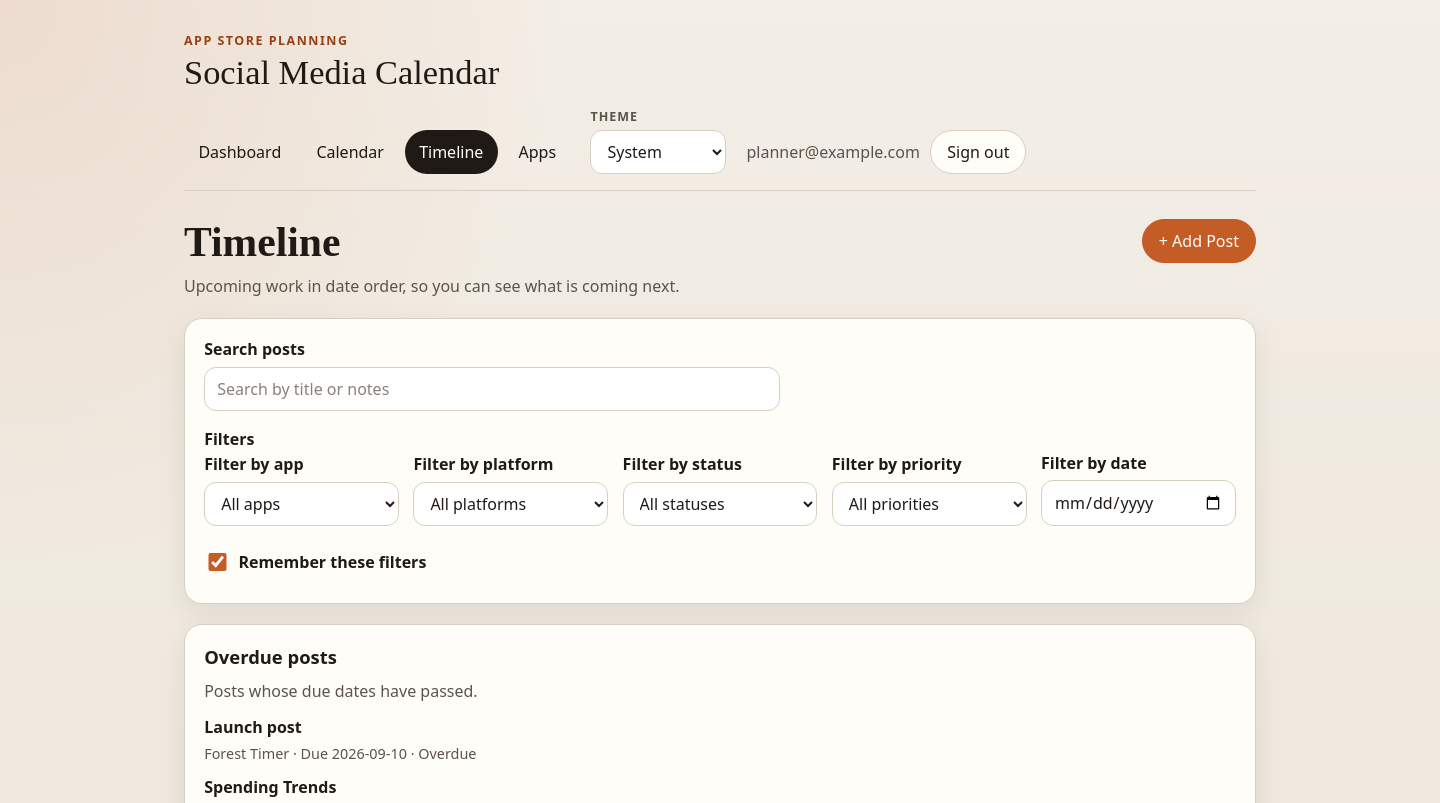
Test: B-012 filter and search posts › searches timeline posts by title or notes
This screenshot has width=1440, height=803.
Type "beach" into the search field labelled "Search posts" at (492, 389), box [204,367,780,411]
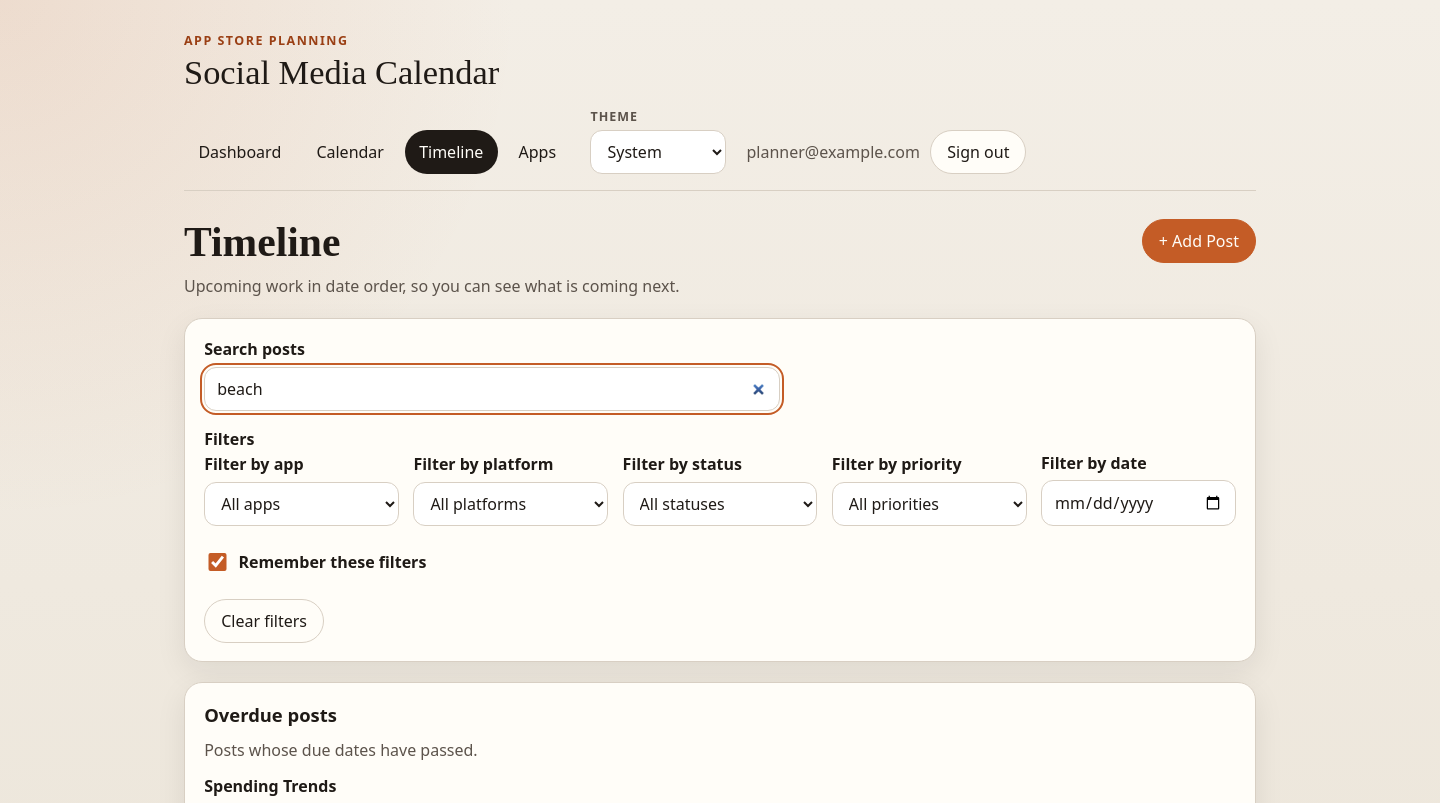
Expected: the link "Launch post" is gone
Replace the text in the search field labelled "Search posts" with "Secret caption" at (492, 389), box [204,367,780,411]
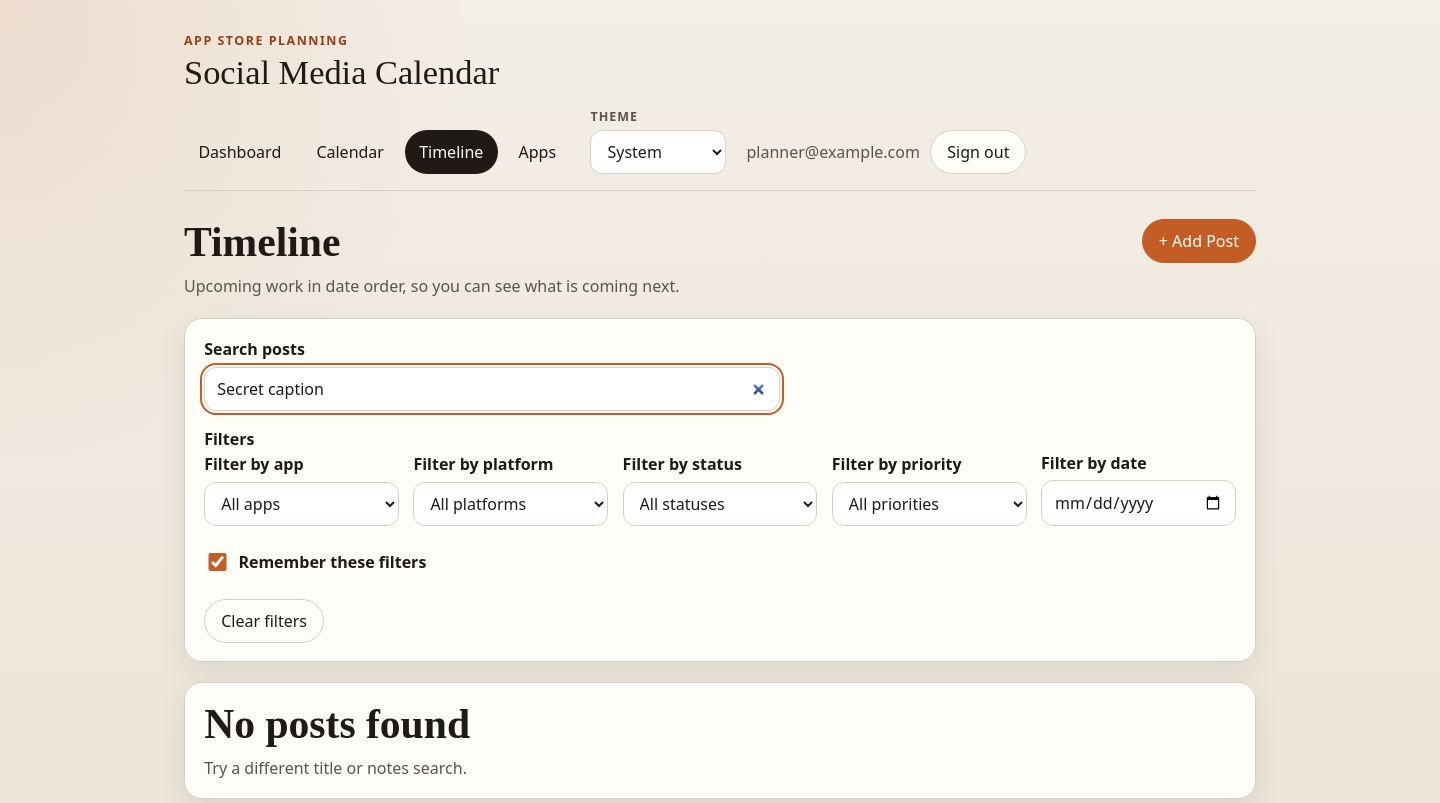
Expected: the heading "No posts found" is shown, [204,701,470,747]
Expected: the link "Launch post" is gone
